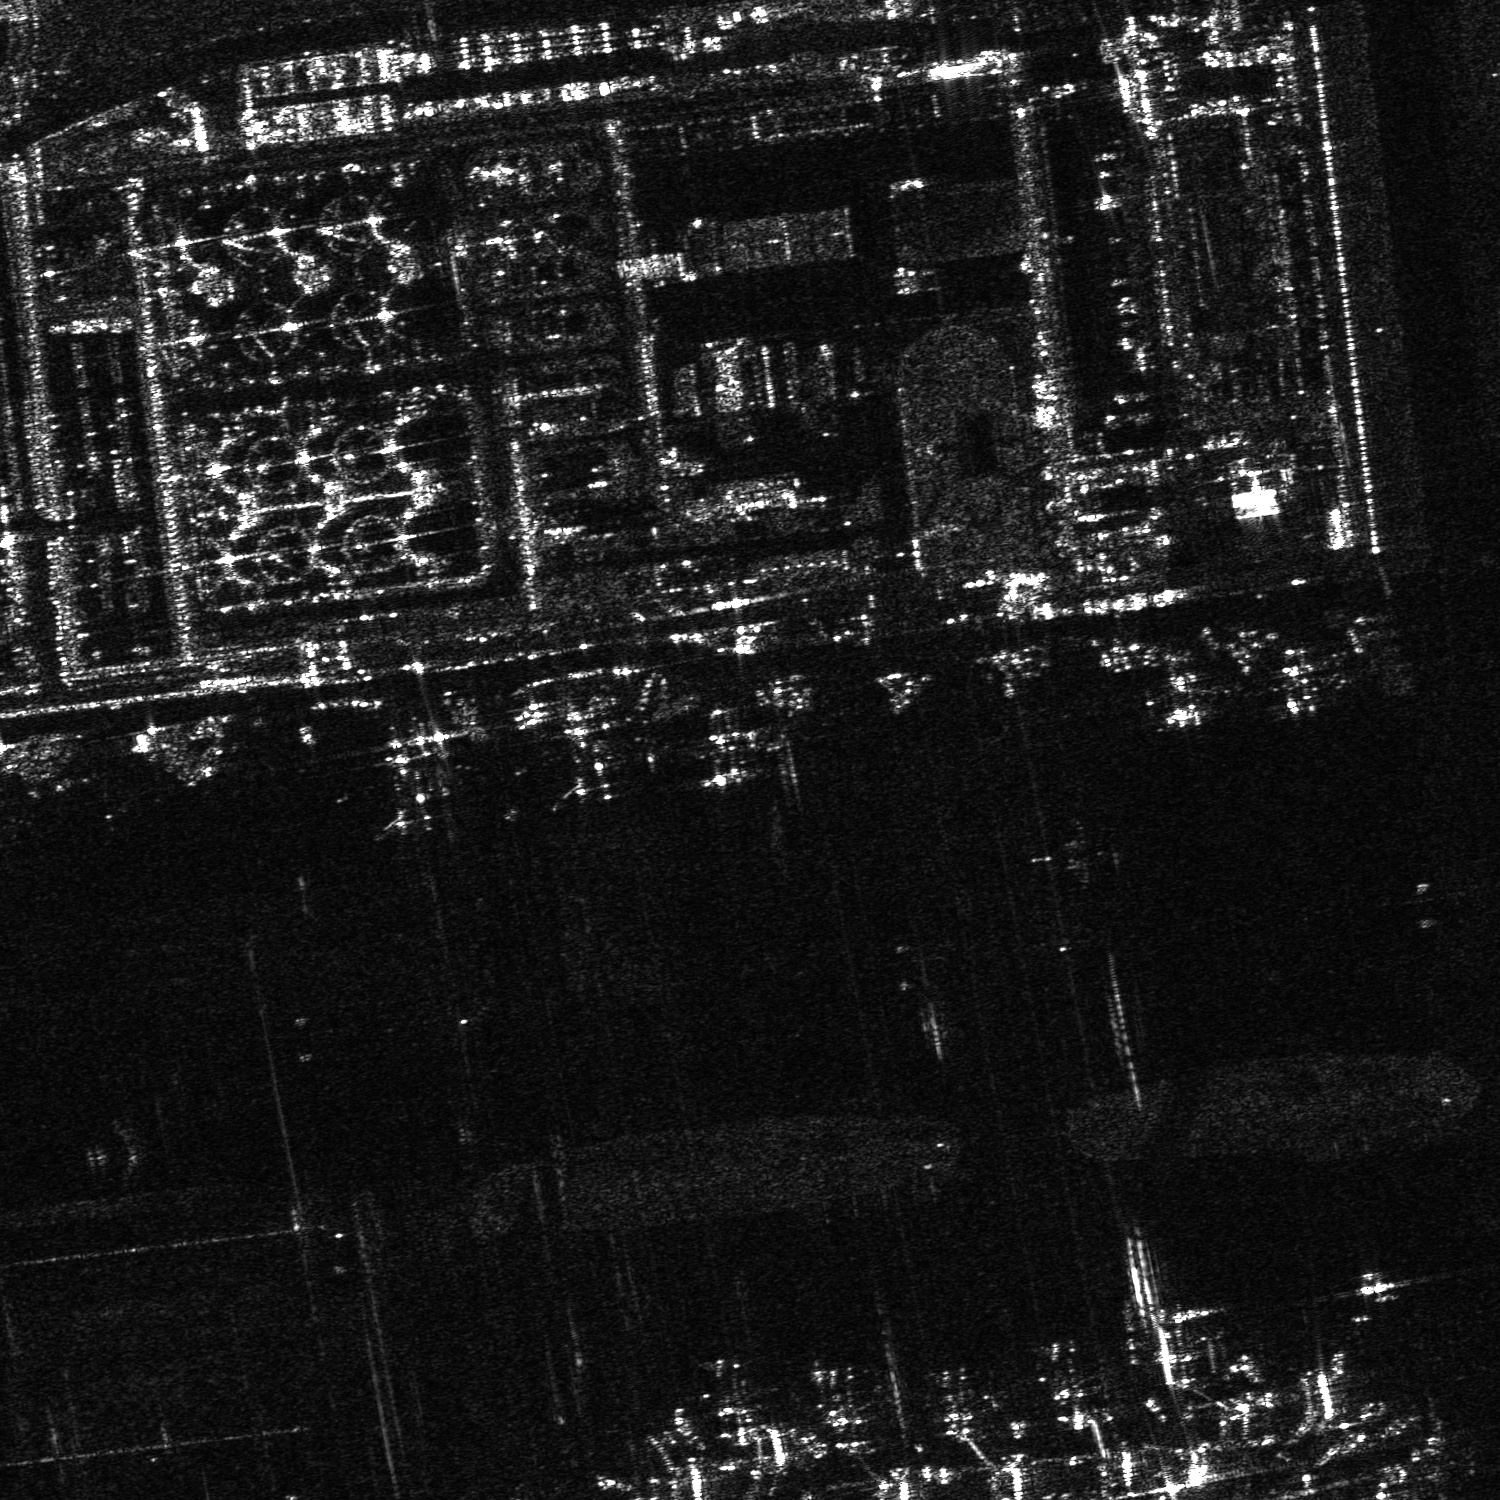A220: (692, 1359, 777, 1440), (918, 1361, 999, 1438), (1027, 1337, 1099, 1409), (805, 1365, 874, 1437)
Boeing737: (1143, 663, 1220, 732)
other: (525, 701, 654, 806), (673, 699, 780, 793), (376, 738, 468, 828), (1269, 643, 1335, 712)
